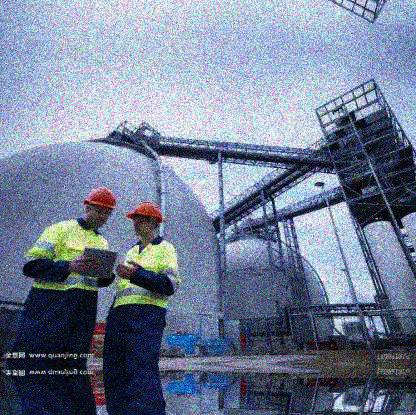helmet: (84, 187, 116, 231), (128, 202, 163, 241)
